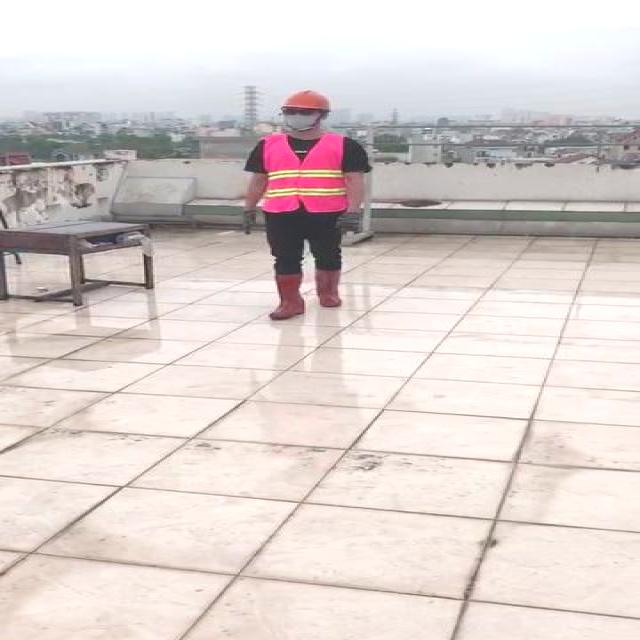boots: (263, 274, 306, 320), (315, 269, 341, 307)
face_mask: (278, 106, 319, 130)
glasses: (282, 106, 316, 118)
hand_glove: (238, 208, 267, 236), (338, 216, 362, 236)
head_helmet: (278, 88, 335, 112)
person: (228, 87, 375, 325)
vest: (262, 132, 351, 214)
